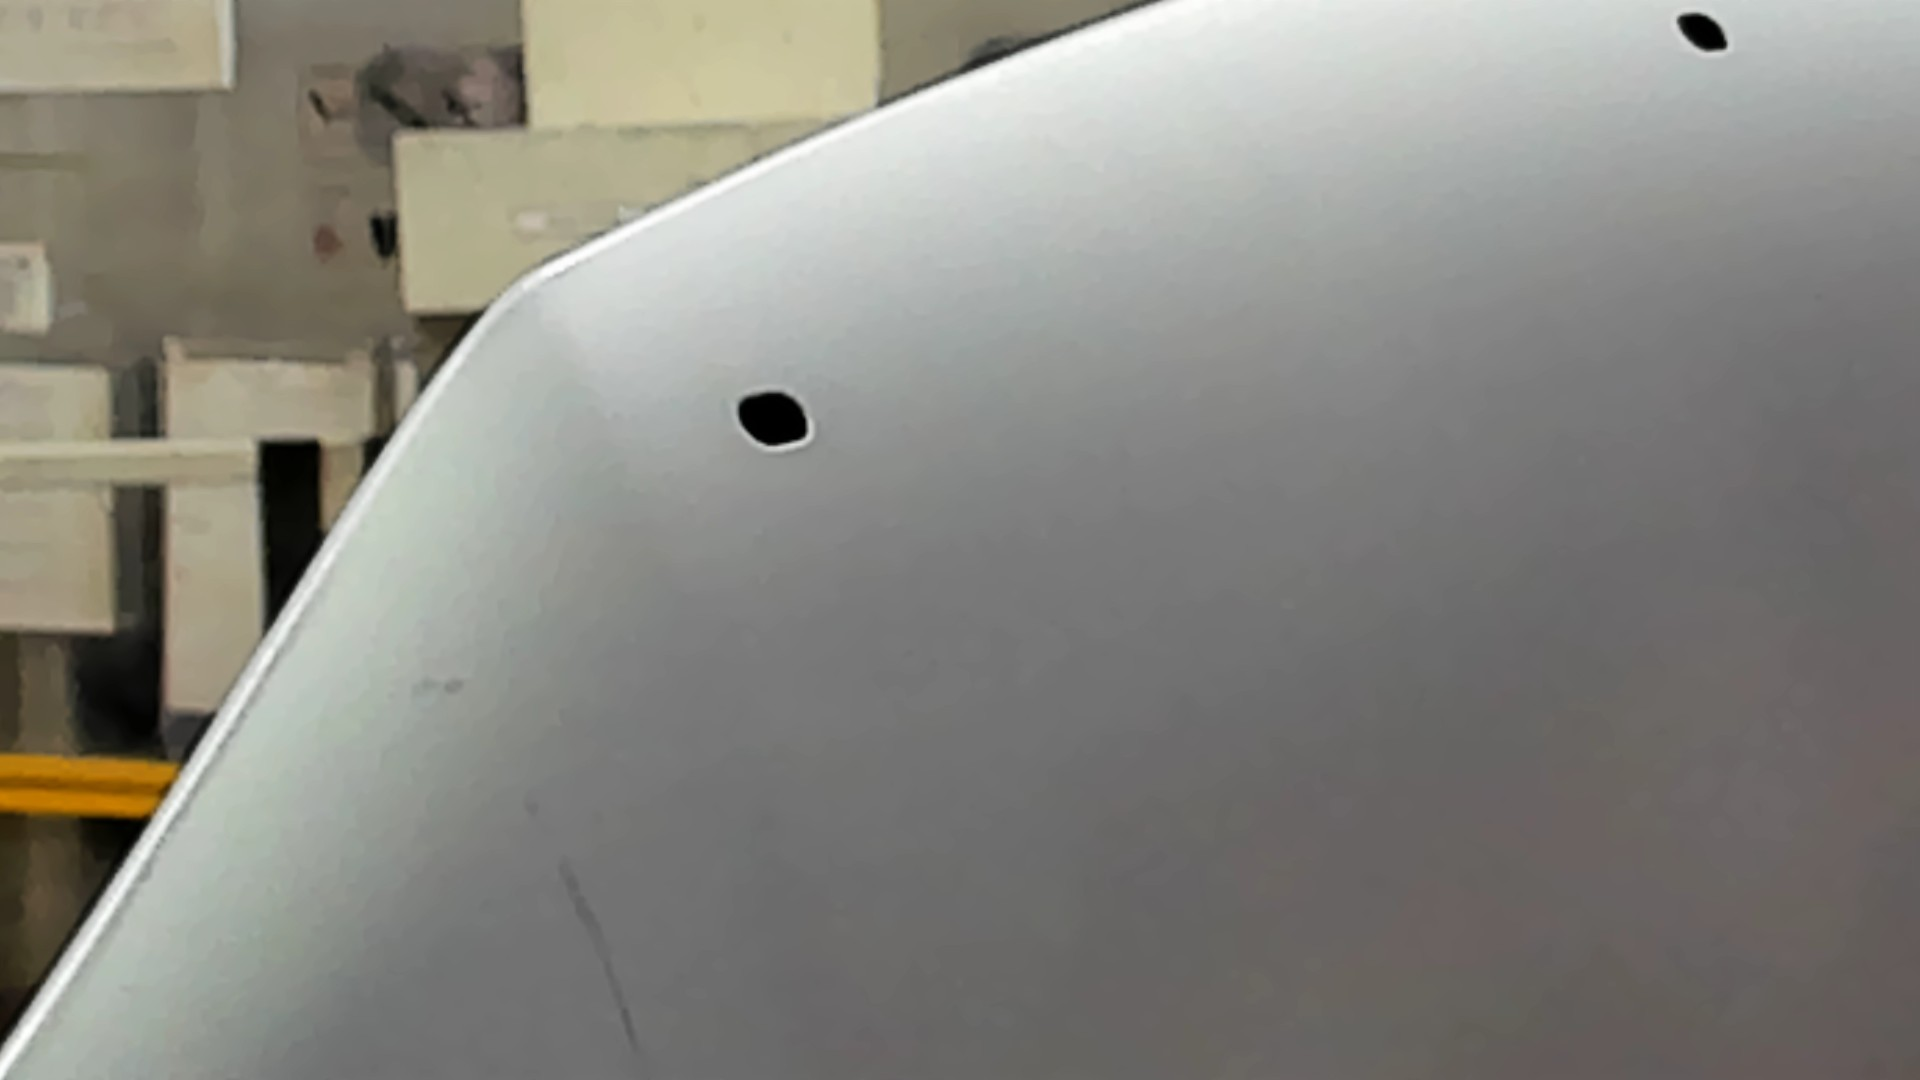amorfo: (727, 388, 816, 454), (1673, 9, 1735, 55)
